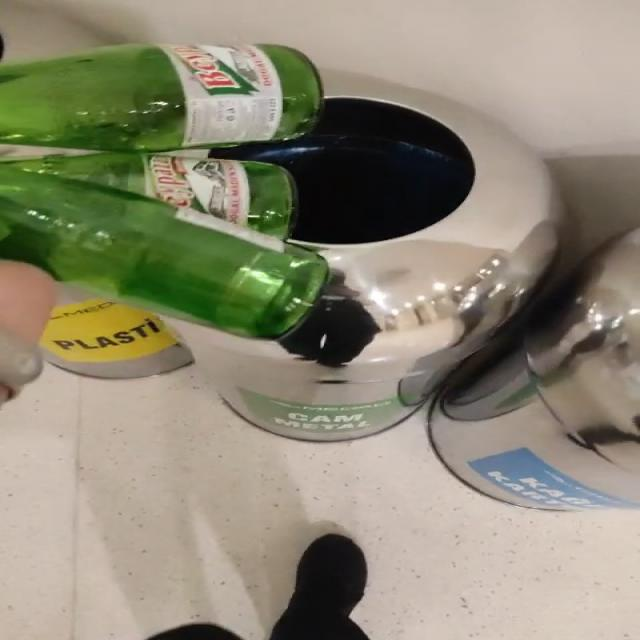bin: (172, 73, 557, 440)
glass: (0, 44, 329, 338)
